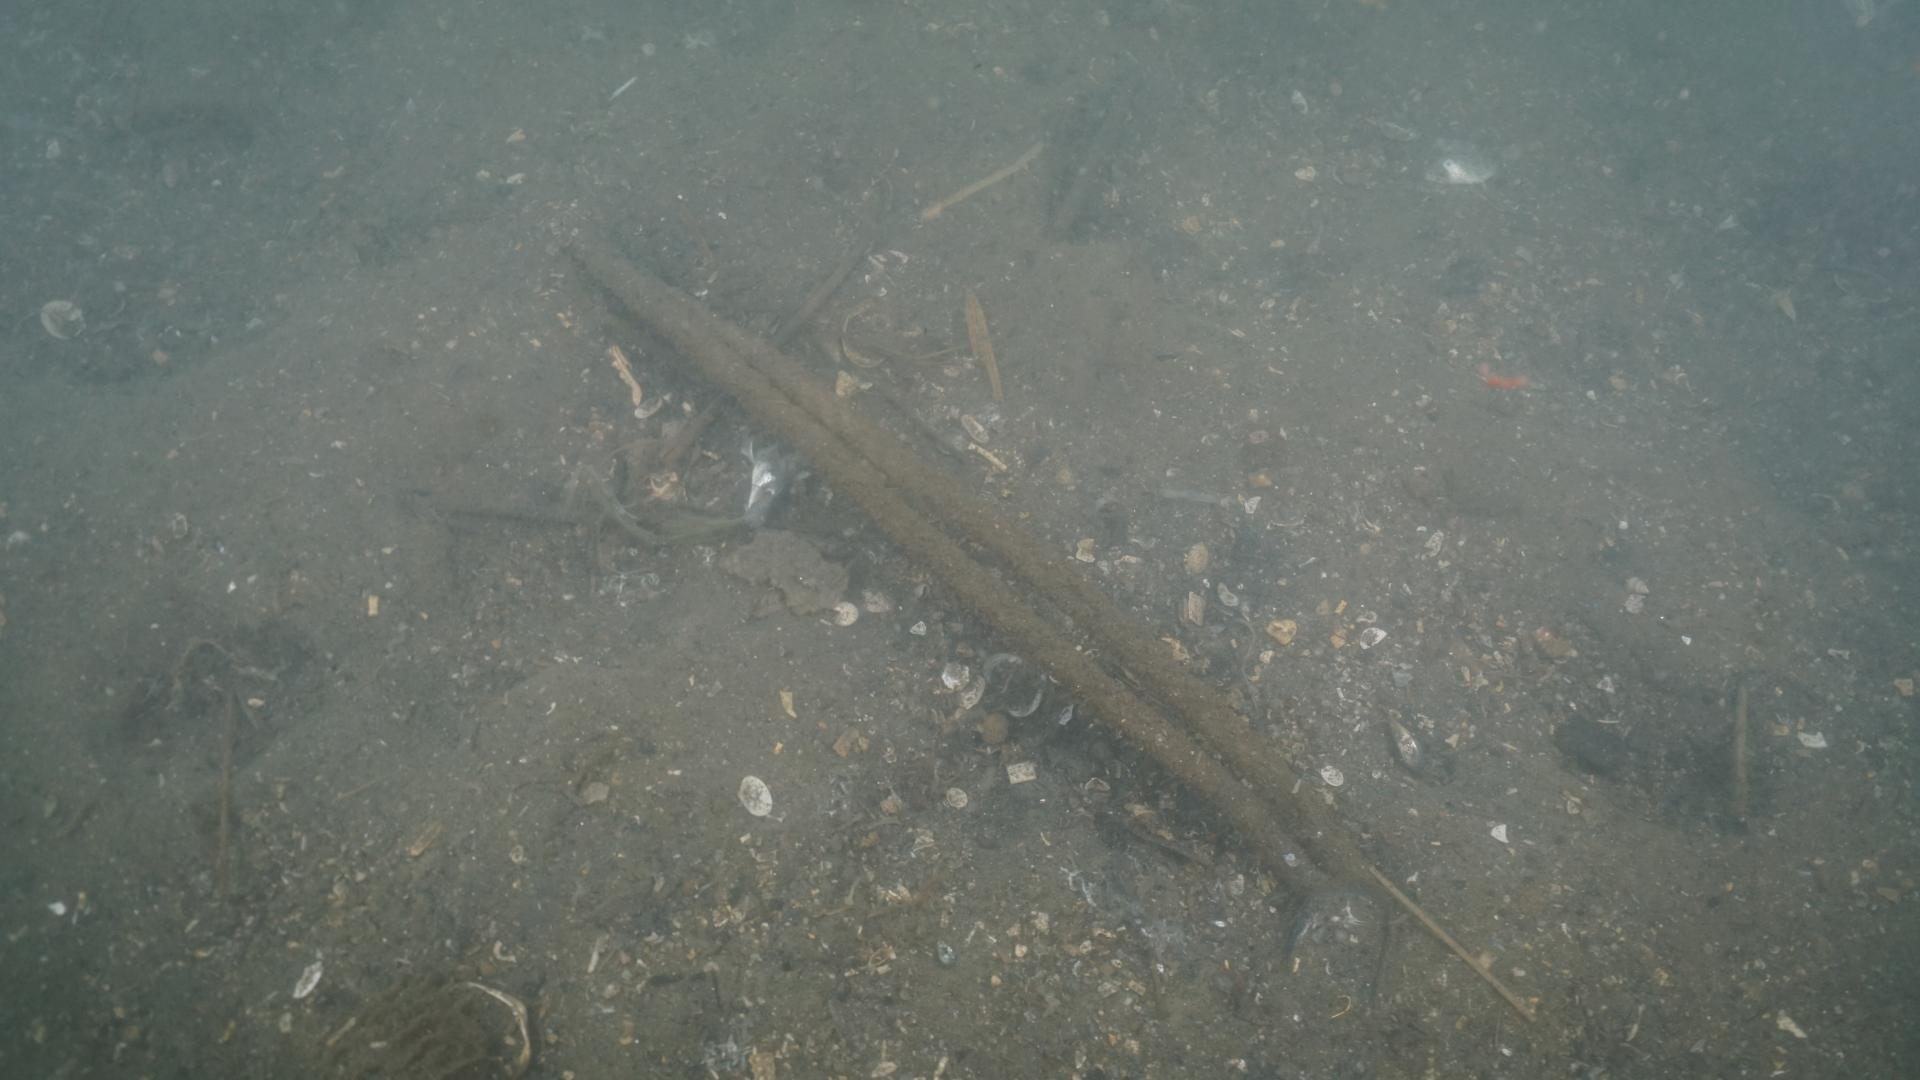bundle of ropes: (562, 240, 1371, 901)
